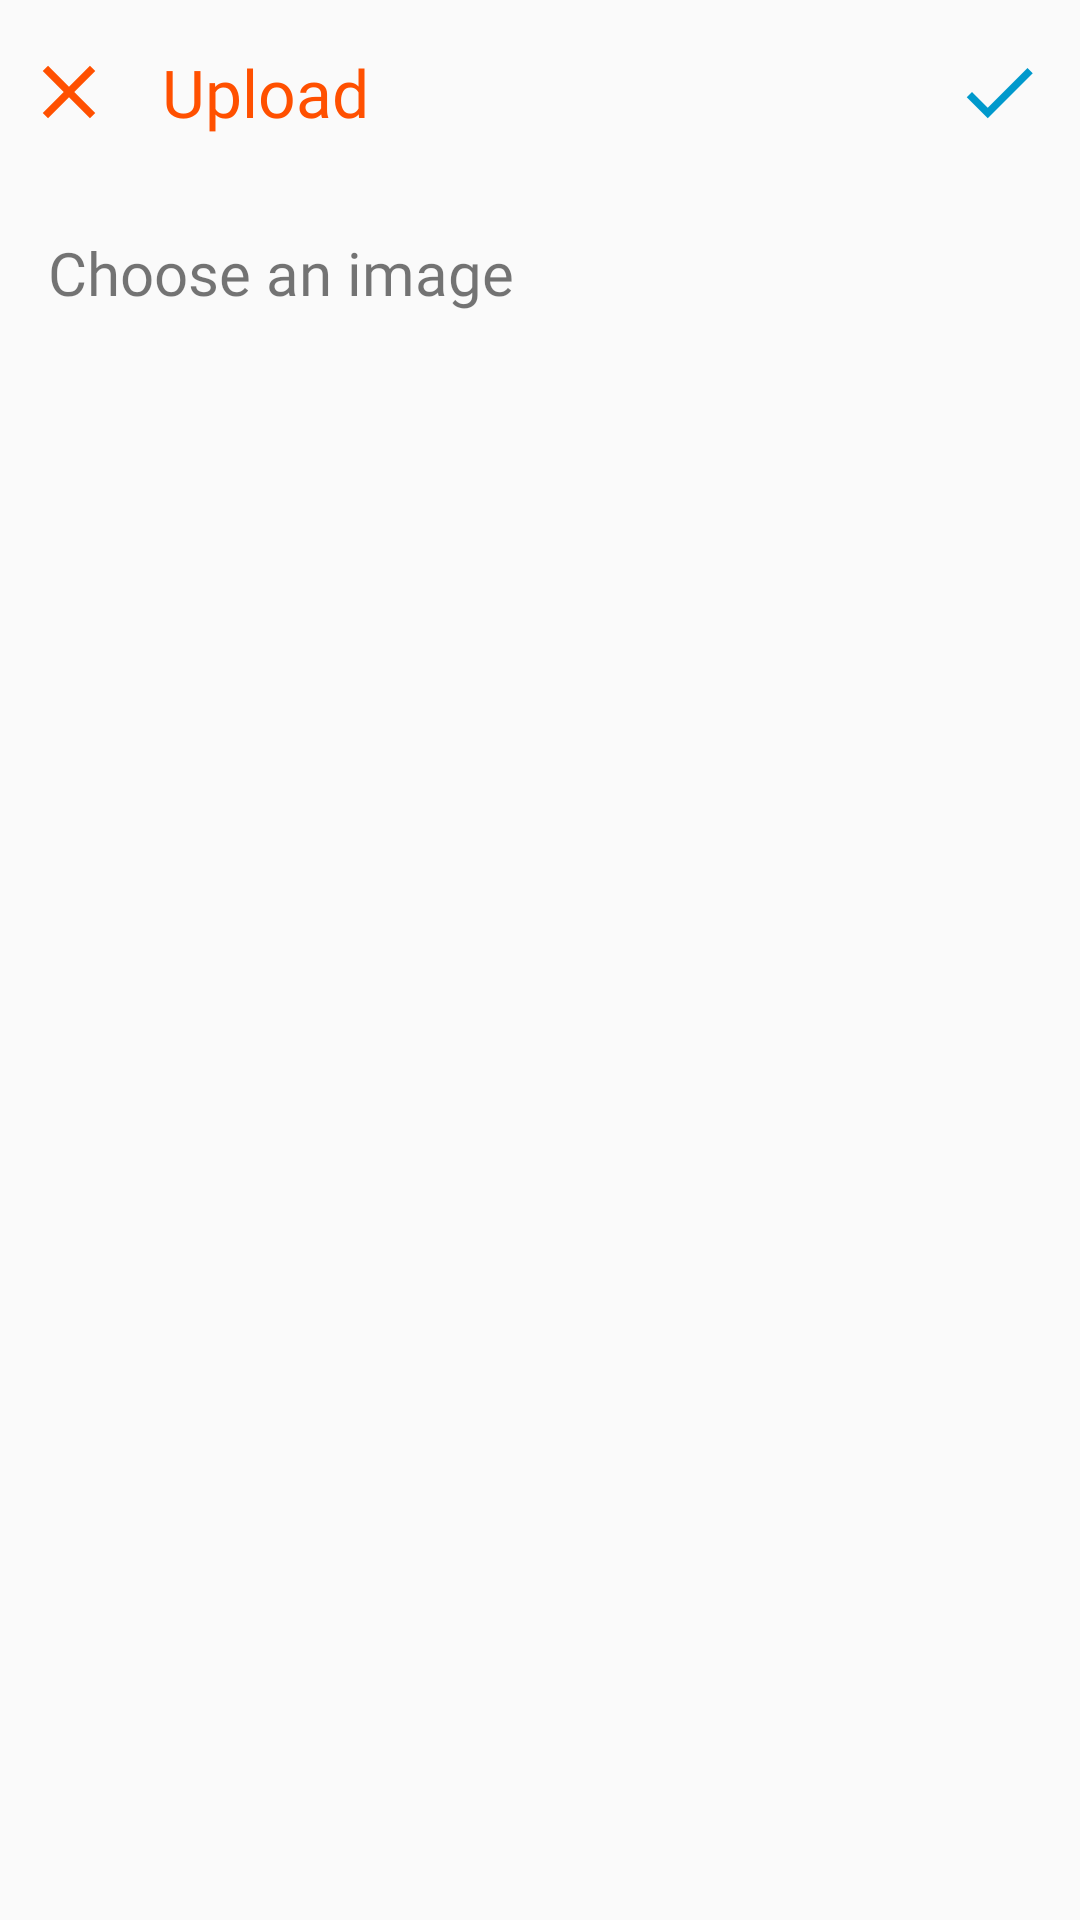

Icon bounding boxes for this 1080px x 1920px phone screenshot, format bbox=(x1, y1, x2, y2):
close: bbox=(43, 66, 95, 118)
done: bbox=(967, 68, 1033, 118)
